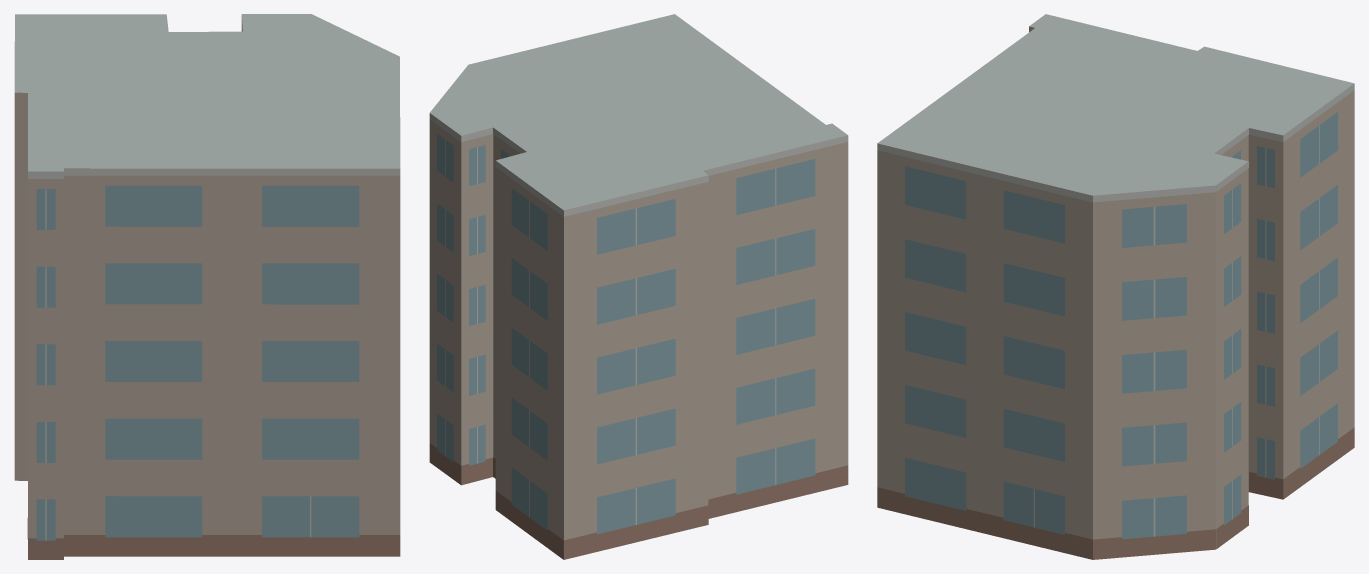
The model's file is survey-upis-32873505.glb.
3 views of the same model, side by side, from view 1: azimuth 30°, elevation 25°; view 2: azimuth 150°, elevation 25°; view 3: azimuth 270°, elevation 25° (orthographic). The views are drawn at different scales.
Parts seen in each view (by area): view 1: survey-upis-32873505.tmp; view 2: survey-upis-32873505.tmp; view 3: survey-upis-32873505.tmp.
Boxes of the visible parts, x1,y1,x2,y2 form: survey-upis-32873505.tmp: [14, 14, 400, 559]; survey-upis-32873505.tmp: [429, 14, 848, 559]; survey-upis-32873505.tmp: [877, 14, 1354, 559].
Size of the model in its own units: 14.19 by 13.25 by 15.75.
